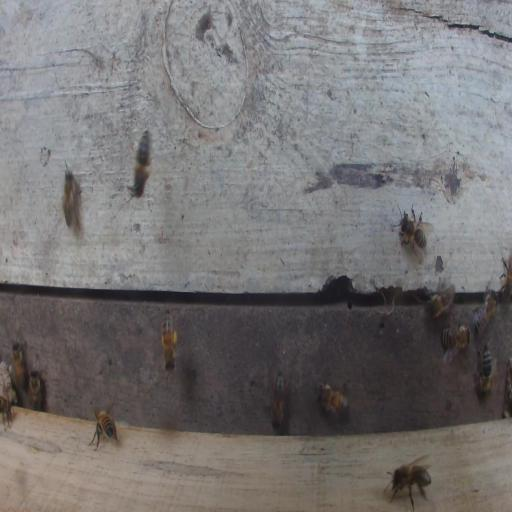nonpollenbee: (385, 456, 432, 510), (390, 204, 430, 261), (317, 364, 350, 418), (62, 164, 83, 232), (88, 403, 118, 450), (132, 128, 151, 198), (440, 322, 471, 364), (473, 286, 499, 334), (474, 336, 492, 398), (425, 283, 455, 320), (270, 370, 287, 431), (12, 340, 27, 390), (498, 255, 512, 301), (0, 394, 14, 431), (29, 369, 41, 410)
pollen: (173, 332, 177, 344)
pollenbee: (161, 305, 178, 374), (162, 334, 164, 348)
